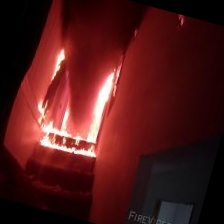fire: (28, 45, 133, 167)
